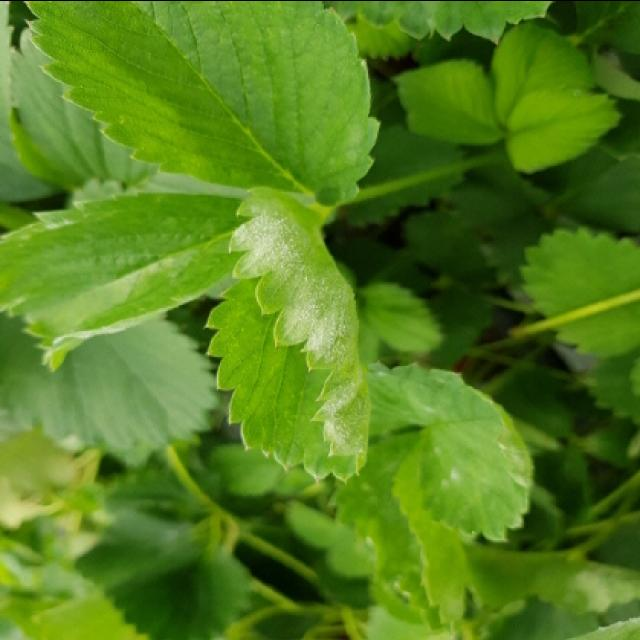Powdery Mildew Leaf: (203, 187, 375, 485), (0, 187, 247, 376), (367, 362, 535, 541)
